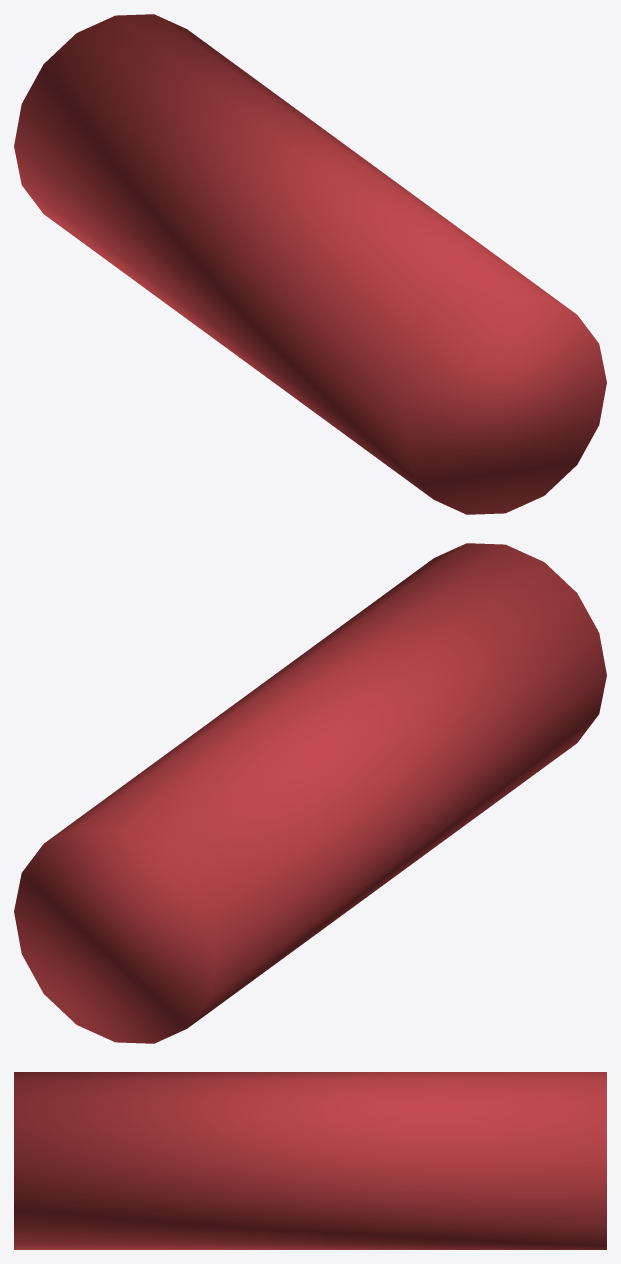
The model's file is food_sausage.glb.
3 views of the same model, one above another, from view 1: azimuth 30°, elevation 25°; view 2: azimuth 150°, elevation 25°; view 3: azimuth 270°, elevation 25° (orthographic). The views are drawn at different scales.
Parts seen in each view (by area): view 1: food_sausage; view 2: food_sausage; view 3: food_sausage.
Boxes of the visible parts, bbox=[...] form: food_sausage: bbox=[14, 14, 606, 514]; food_sausage: bbox=[14, 543, 606, 1043]; food_sausage: bbox=[14, 1072, 606, 1249].
Bounding box in the file's own units: 0.06 × 0.06 × 0.2.
